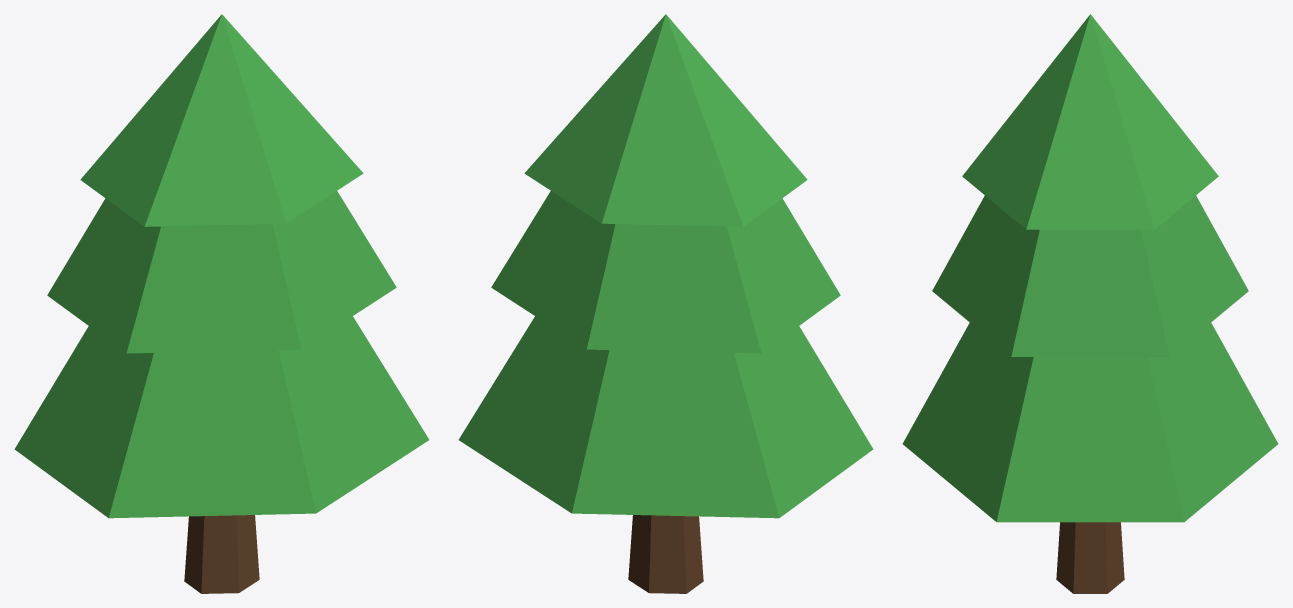
Rendered from Tree_Summer_Small.fbx.
3 renders of one model, left to right at view 1: azimuth 30°, elevation 25°; view 2: azimuth 150°, elevation 25°; view 3: azimuth 270°, elevation 25°, orthographic.
Parts seen in each view (by area): view 1: Tree_Summer_Small; view 2: Tree_Summer_Small; view 3: Tree_Summer_Small.
Boxes of the visible parts, x1,y1,x2,y2 form: Tree_Summer_Small: (14,14,429,593); Tree_Summer_Small: (458,14,873,593); Tree_Summer_Small: (902,14,1278,593).
Bounding box in the file's own units: 105 × 177 × 106.
